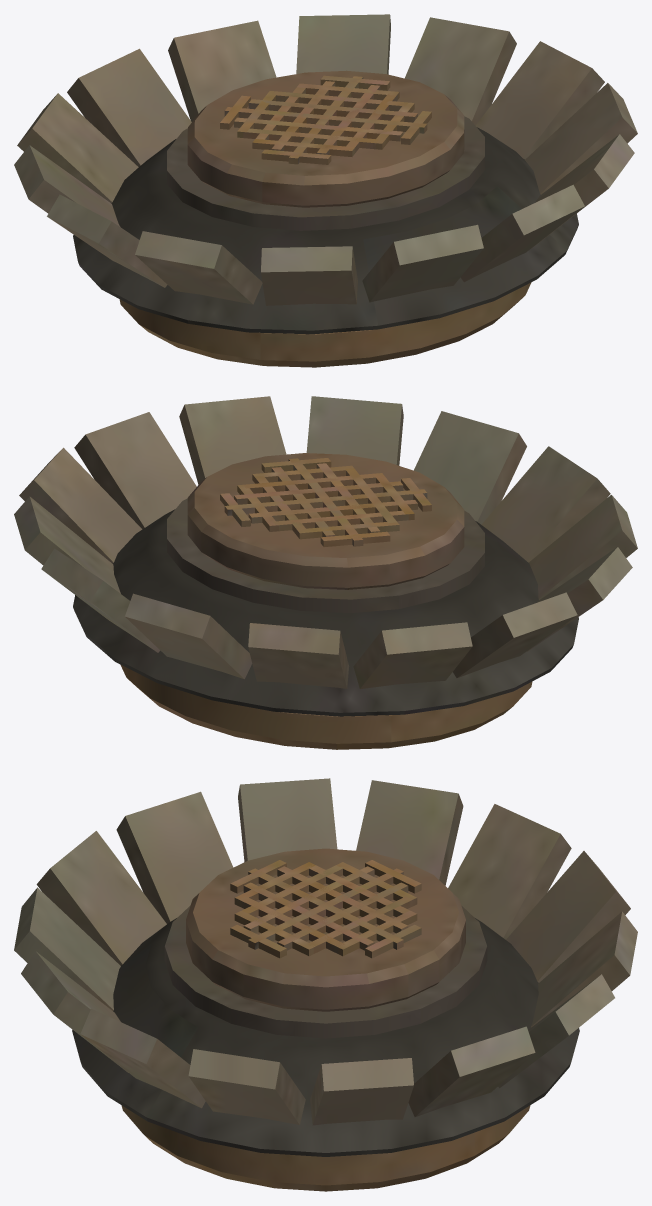
The model's file is land-mine.glb.
The picture shows the model from 3 angles, top to bottom: view 1: azimuth 30°, elevation 25°; view 2: azimuth 150°, elevation 25°; view 3: azimuth 270°, elevation 25°; orthographic projection. The views are drawn at different scales.
Parts seen in each view (by area): view 1: body; view 2: body; view 3: body.
Part boxes in pixels (x1,y1,x2,y2): body: (14, 14, 637, 367); body: (14, 396, 637, 749); body: (14, 778, 637, 1191).
Bounding box in the file's own units: 0.9206 × 0.271 × 0.8076.
1 material, 1 textured.
